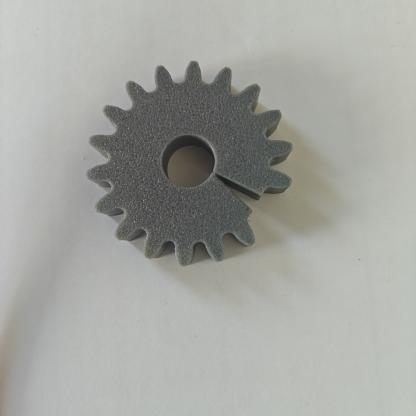defect: (199, 155, 305, 253)
gear: (75, 53, 322, 287)
